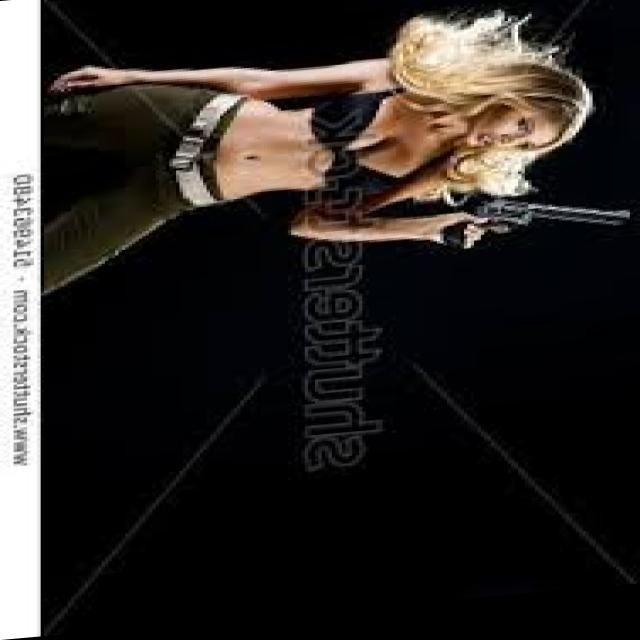handgun: (444, 198, 636, 272)
